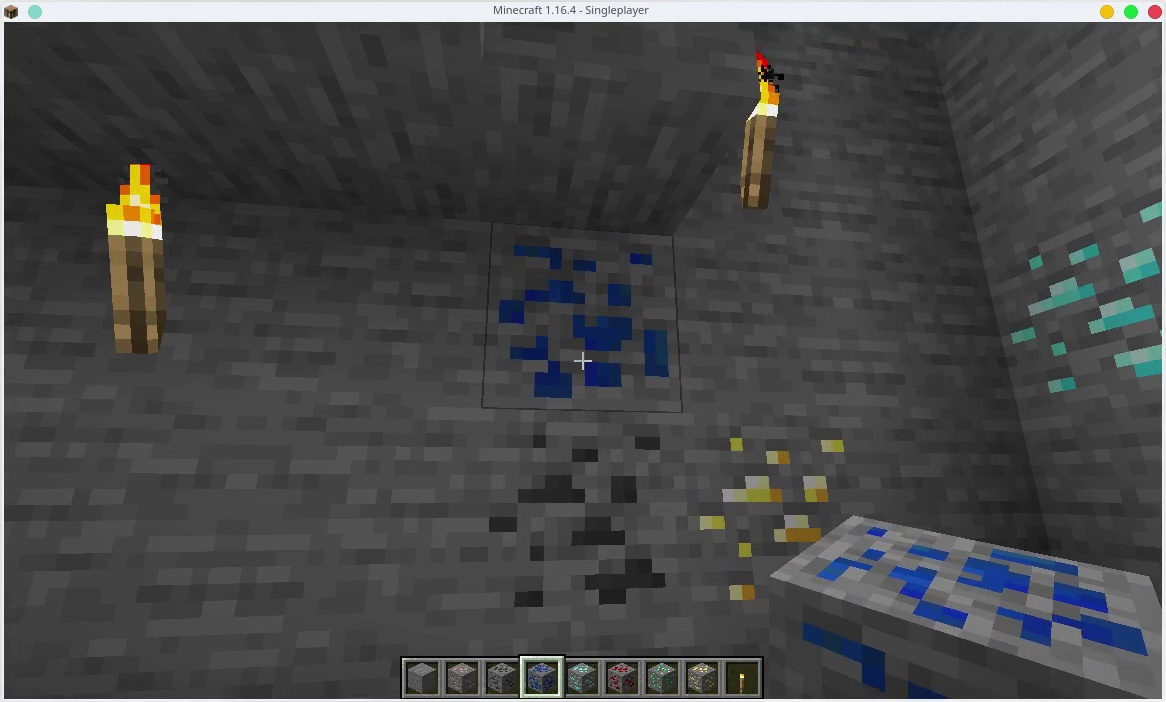gold: (690, 437, 845, 541), (688, 661, 714, 692)
